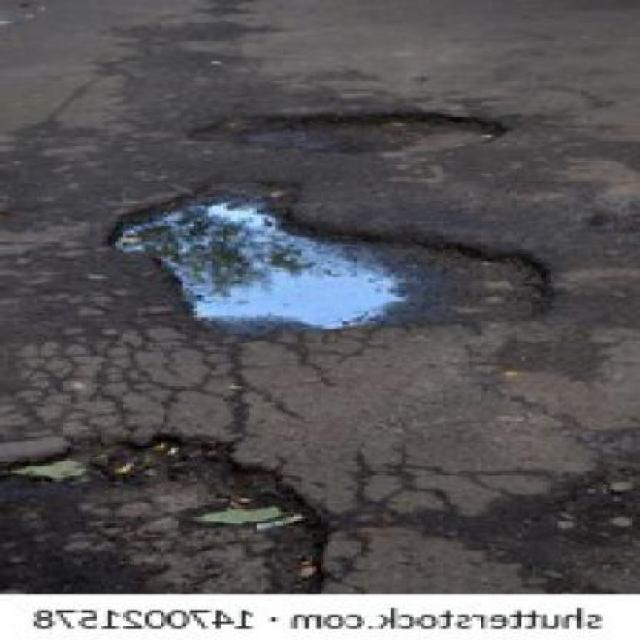Pothole: (104, 168, 566, 339), (3, 424, 338, 596), (185, 106, 518, 158)
